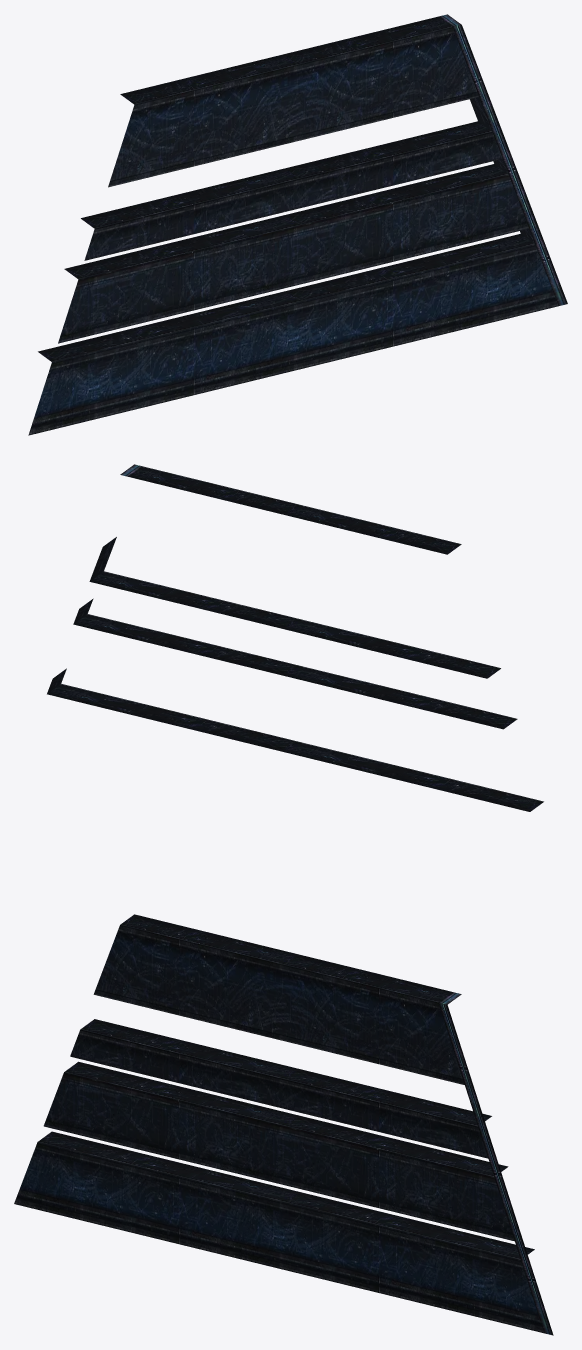
The picture shows the model from 3 angles, top to bottom: view 1: azimuth 30°, elevation 25°; view 2: azimuth 150°, elevation 25°; view 3: azimuth 330°, elevation 25°; orthographic projection.
Visible parts, largest first — view 1: model_Object61; view 2: model_Object61; view 3: model_Object61.
Part boxes in pixels (x1=…): model_Object61: x1=28, y1=14, x2=567, y2=435; model_Object61: x1=47, y1=464, x2=543, y2=811; model_Object61: x1=14, y1=914, x2=553, y2=1335.
Size of the model in its own units: 7.76 by 4.19 by 0.3581.
Materials: 1 (1 with a texture image).
